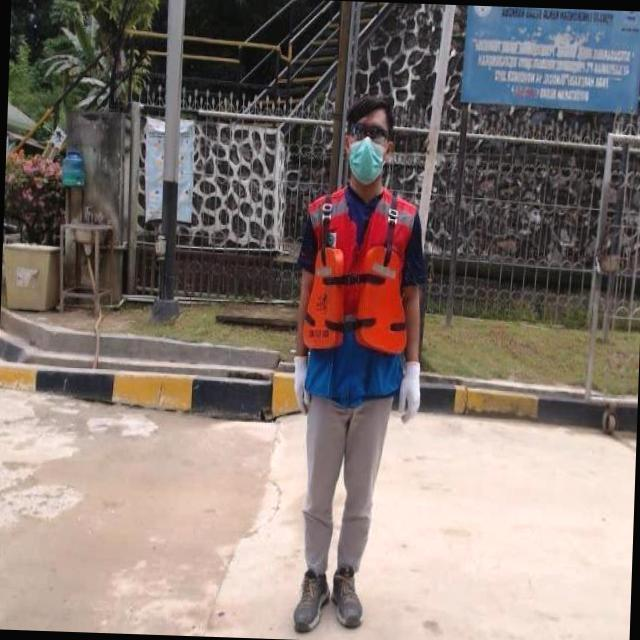vest: (302, 185, 419, 402)
